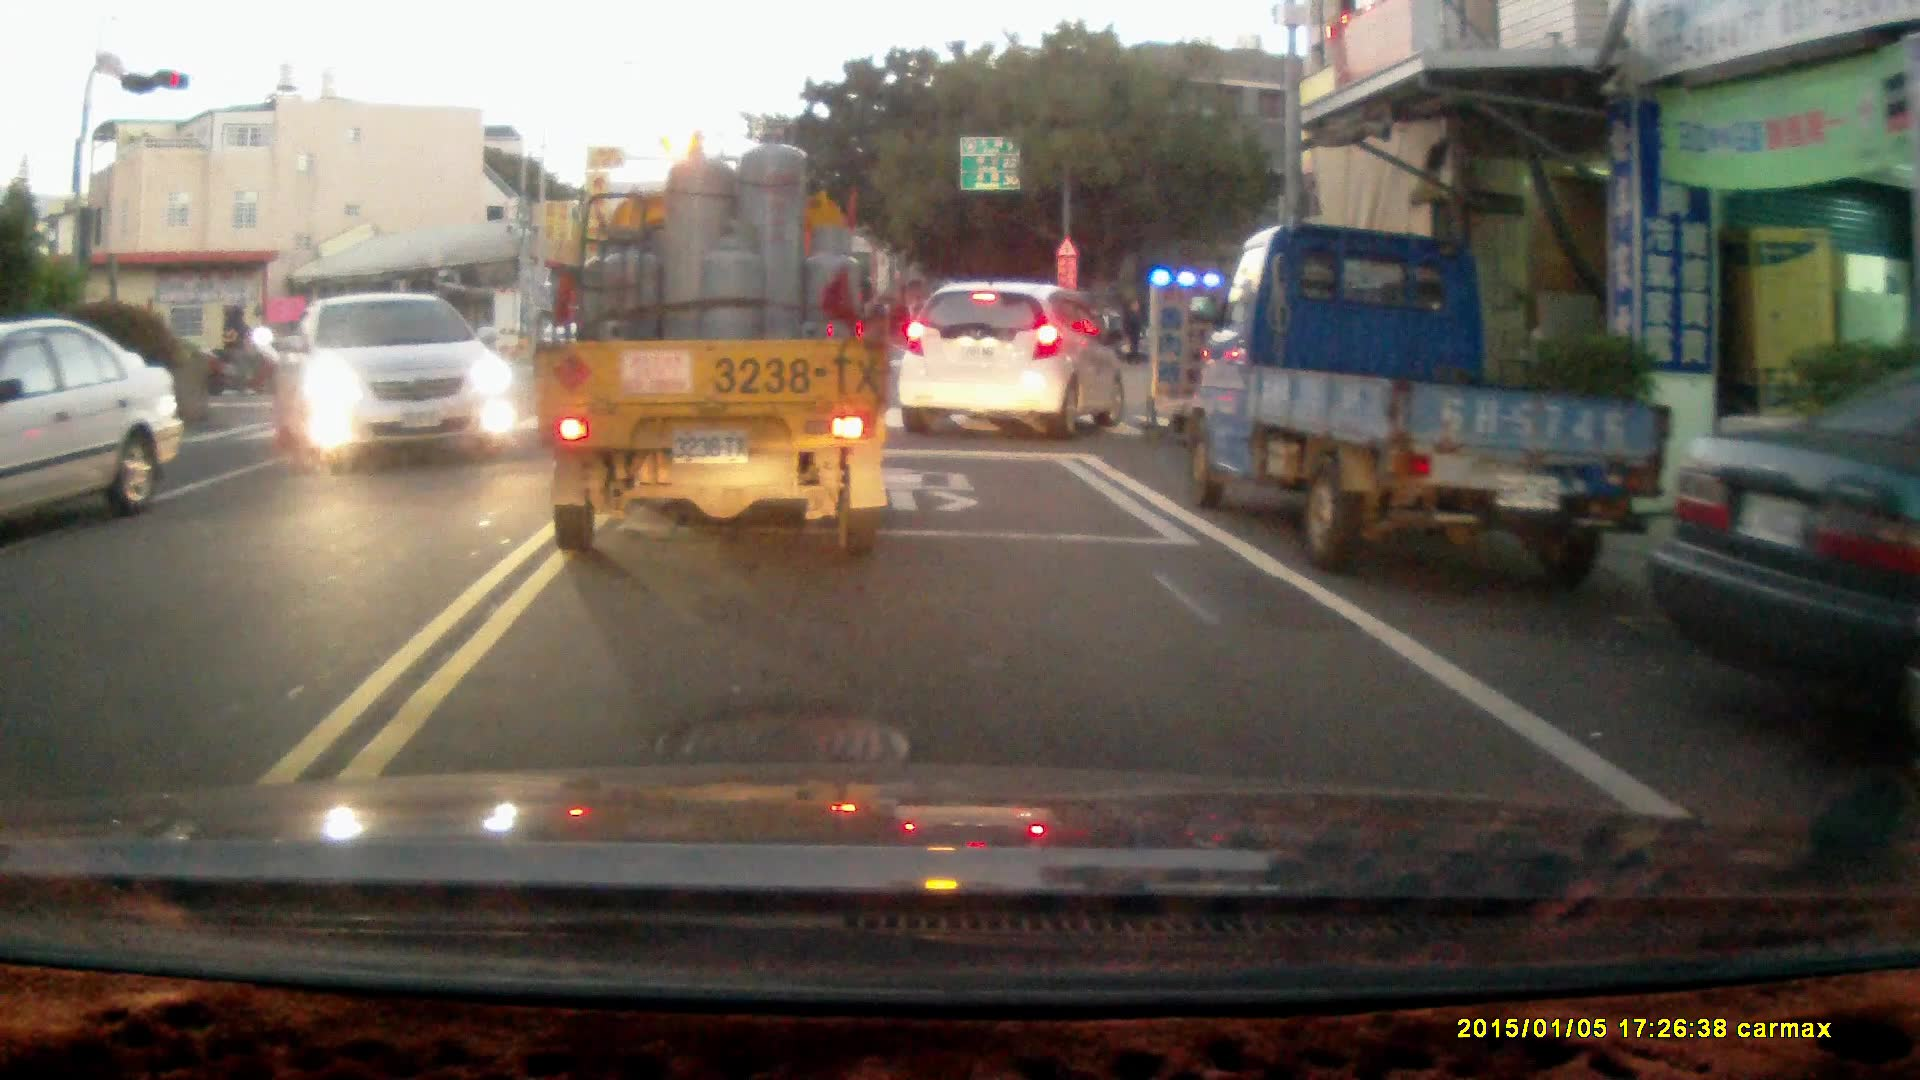rider: (199, 302, 283, 396)
vehicle: (1192, 221, 1655, 581), (540, 117, 900, 553), (269, 294, 517, 463), (1, 319, 174, 539), (901, 281, 1135, 437)
